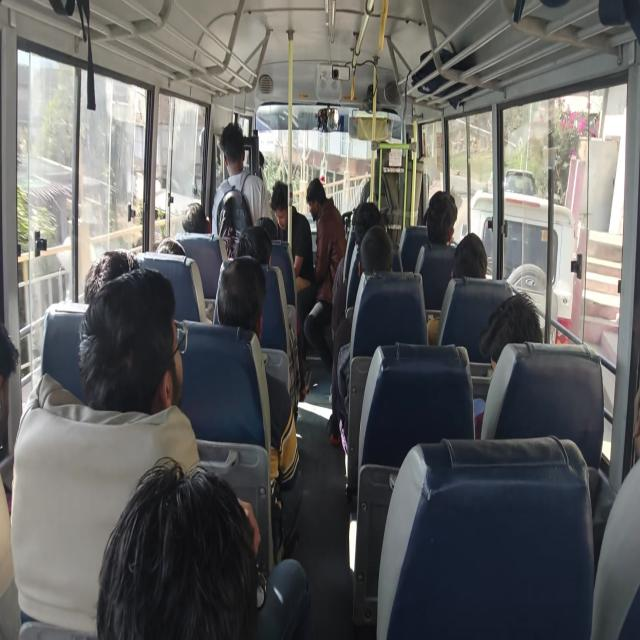person: (10, 265, 200, 638), (96, 455, 262, 639), (213, 254, 303, 554), (78, 266, 184, 415), (328, 224, 394, 450), (590, 386, 640, 638), (472, 291, 544, 439), (297, 177, 347, 386), (211, 122, 276, 237), (427, 232, 487, 344), (0, 322, 21, 638), (414, 190, 458, 310), (270, 180, 314, 294), (83, 248, 140, 304), (425, 190, 457, 246), (452, 232, 488, 279), (234, 224, 272, 266), (181, 201, 210, 234), (156, 237, 186, 255)
